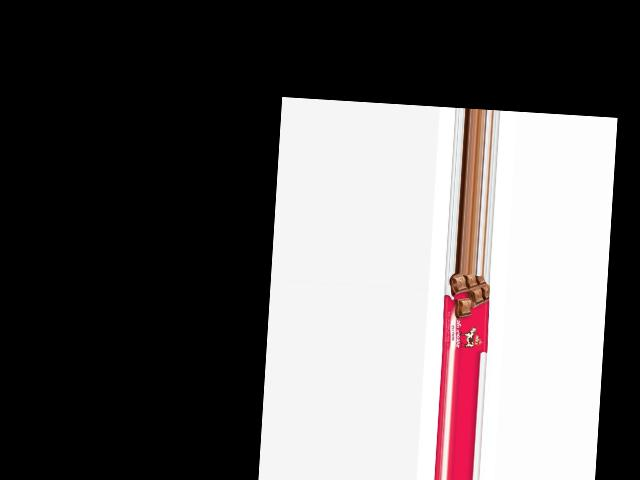chocolate: (440, 273, 490, 354)
